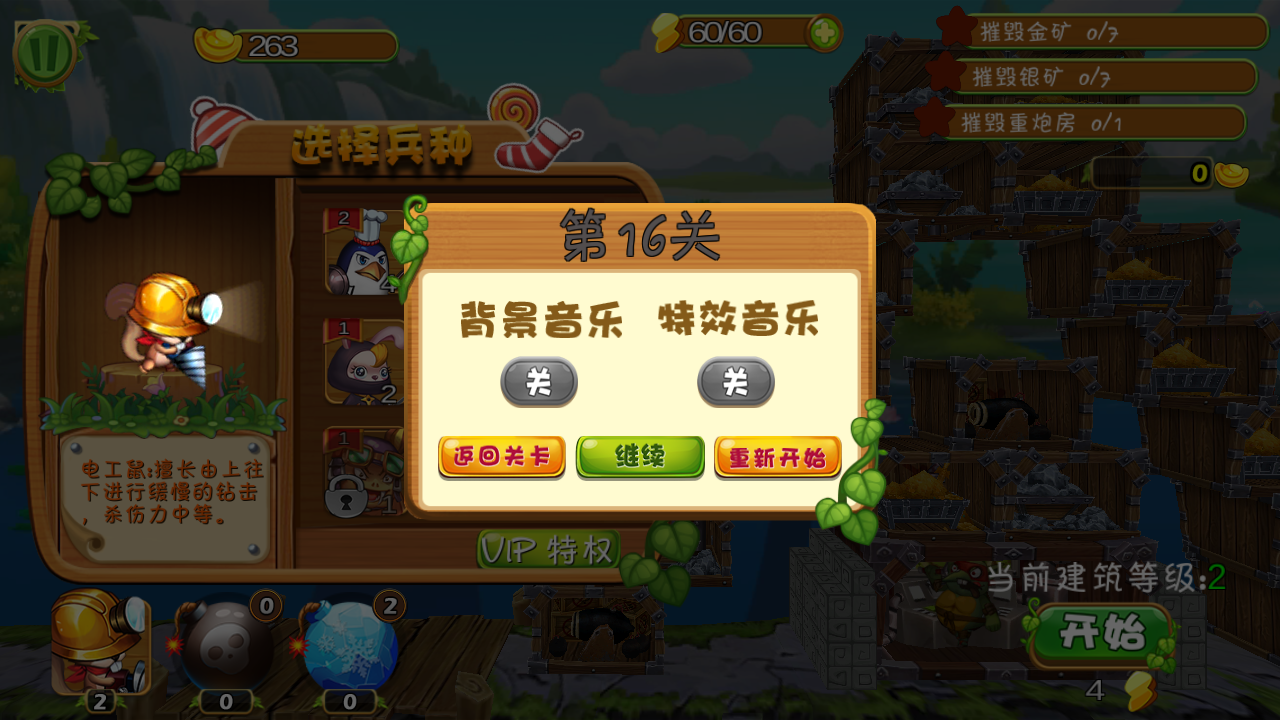alert: (392, 189, 891, 531)
